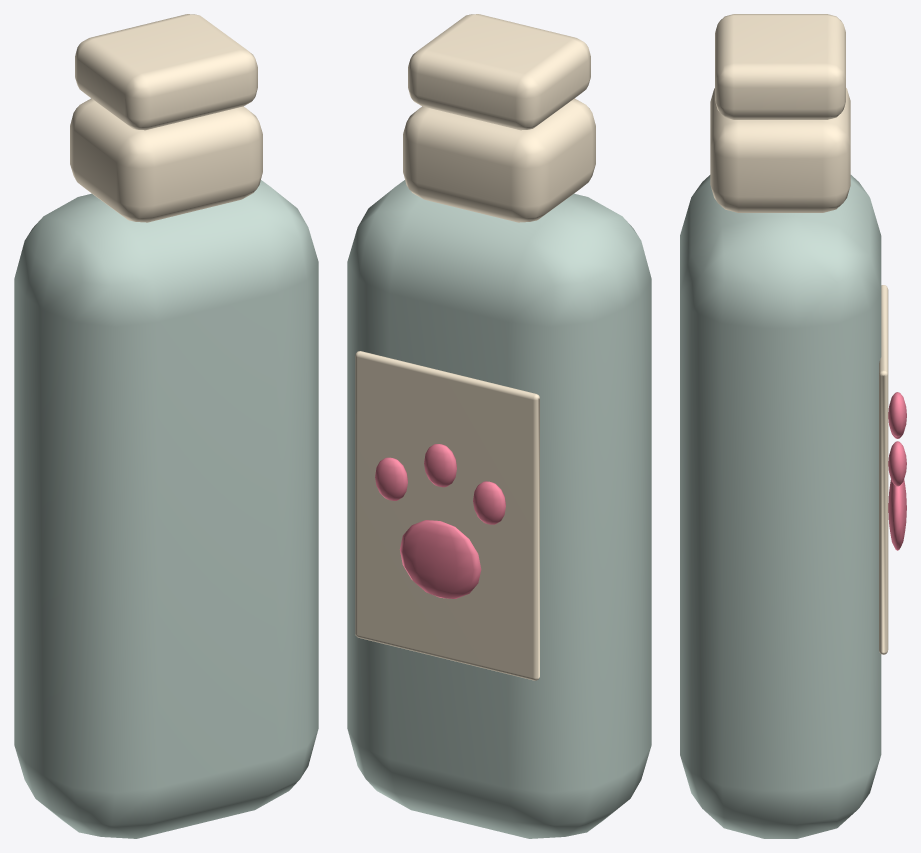
Rendered from shampoo.glb.
3 views of the same model, side by side, from view 1: azimuth 30°, elevation 25°; view 2: azimuth 150°, elevation 25°; view 3: azimuth 270°, elevation 25° (orthographic).
Visible parts, largest first — view 1: Shampoo; view 2: Shampoo; view 3: Shampoo.
Part boxes in pixels (bbox=[...]): Shampoo: bbox=[14, 14, 318, 838]; Shampoo: bbox=[347, 14, 651, 838]; Shampoo: bbox=[680, 14, 906, 838].
Bounding box in the file's own units: 0.065 × 0.18 × 0.0485.
